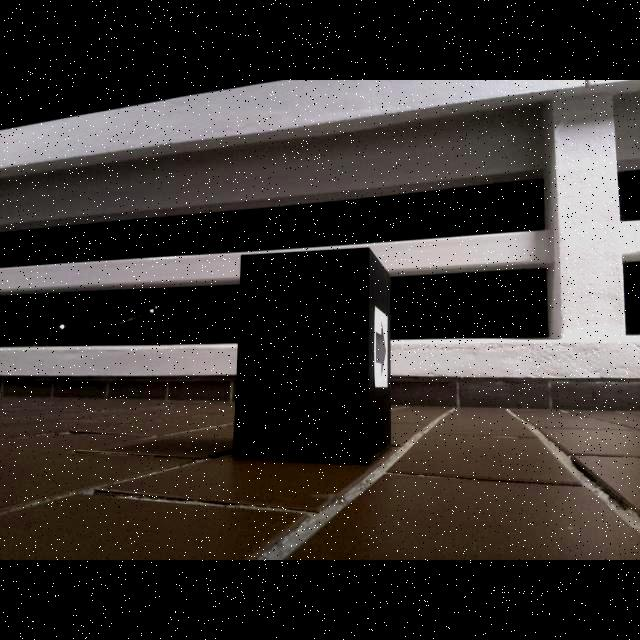RIGHT: (375, 323, 386, 378)
